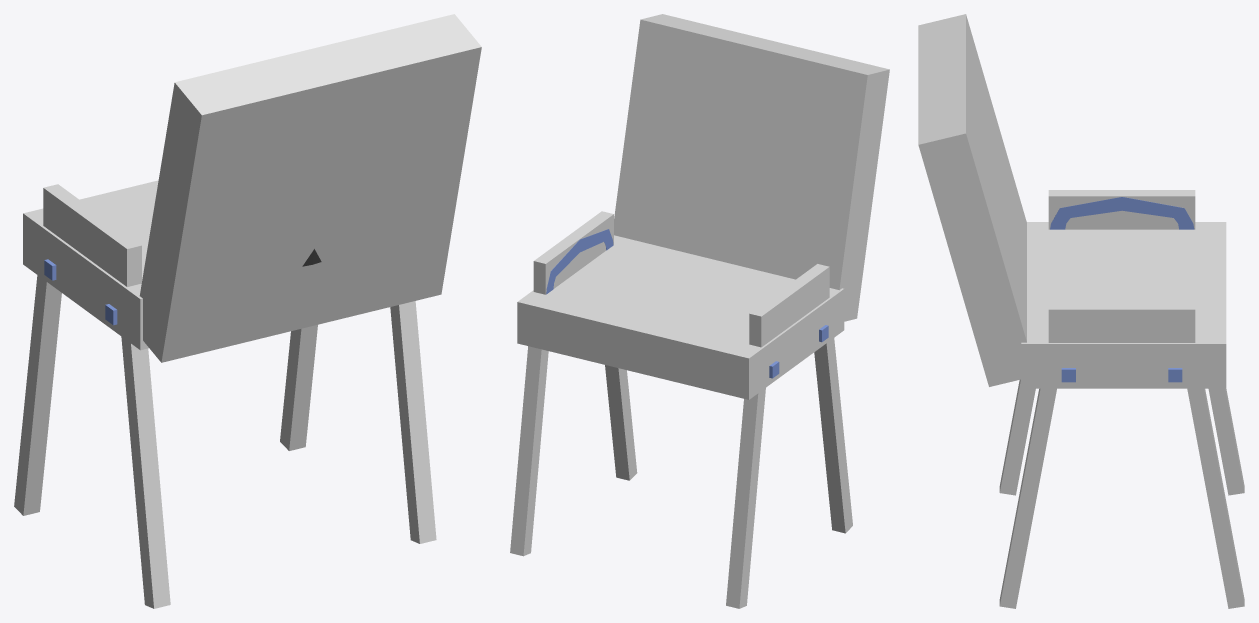
Rendered from chair1.fbx.
3 views of the same model, side by side, from view 1: azimuth 30°, elevation 25°; view 2: azimuth 150°, elevation 25°; view 3: azimuth 270°, elevation 25° (orthographic). The views are drawn at different scales.
Visible parts, largest first — view 1: Cube.001, Cube, Cube.007, Cube.006, Cube.002, Cube.009, Cube.003, chair1; view 2: Cube.001, Cube, Cube.002, Cube.003, Cube.007, Cube.009, Cube.008, Cube.006, chair1; view 3: Cube, Cube.001, Cube.008, Cube.006, Cube.003, Cube.009, chair1, Cube.007, Cube.002.
Part boxes in pixels (box(x1,y1,x2,y2)): Cube.001: box(139, 14, 481, 362); Cube: box(23, 180, 158, 350); Cube.007: box(121, 336, 170, 608); Cube.006: box(390, 301, 436, 543); Cube.002: box(14, 275, 61, 515); Cube.009: box(43, 184, 141, 286); Cube.003: box(280, 324, 317, 450); chair1: box(44, 249, 321, 325); Cube.001: box(614, 14, 889, 321); Cube: box(517, 235, 844, 399); Cube.002: box(726, 388, 765, 608); Cube.003: box(510, 346, 548, 556); Cube.007: box(814, 338, 852, 533); Cube.009: box(749, 264, 829, 347); Cube.008: box(533, 211, 613, 294); Cube.006: box(605, 365, 637, 480); chair1: box(546, 229, 828, 378); Cube: box(1021, 222, 1226, 388); Cube.001: box(918, 14, 1026, 386); Cube.008: box(1048, 303, 1195, 342); Cube.006: box(999, 388, 1056, 608); Cube.003: box(1187, 388, 1244, 608); Cube.009: box(1048, 190, 1195, 229); chair1: box(1050, 197, 1194, 382); Cube.007: box(999, 379, 1035, 495); Cube.002: box(1208, 388, 1244, 495).
Size of the model in its own units: 0.6272 by 1.11 by 0.6917.
